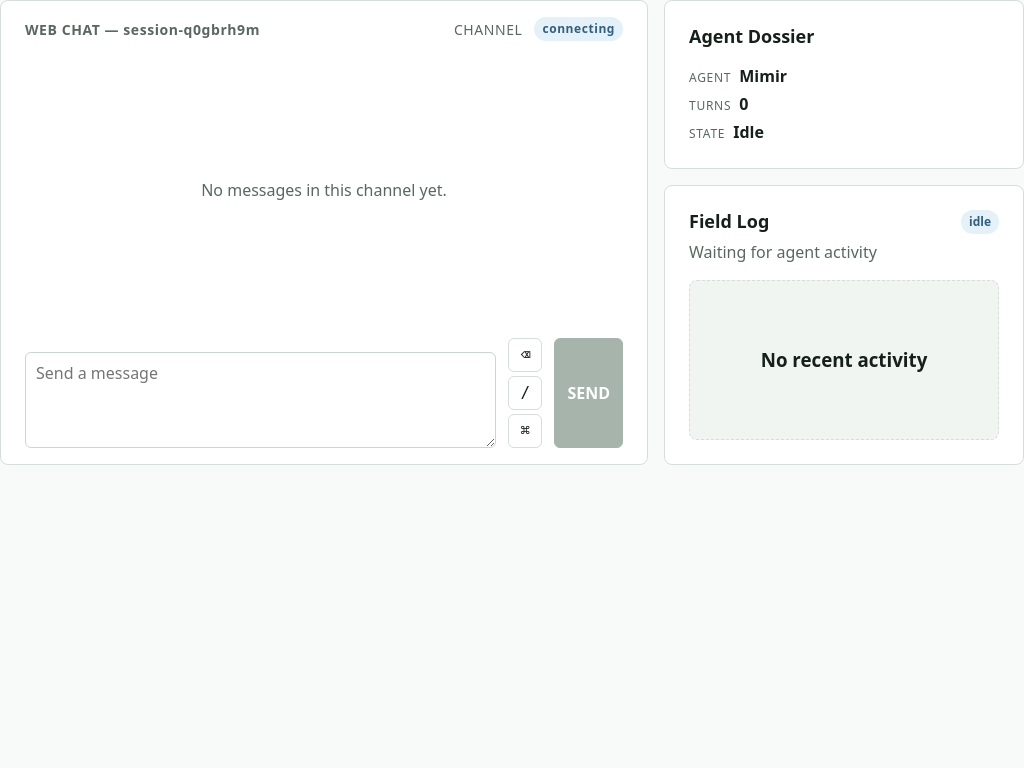
Scenario: ChatRoute › opens the Shortcuts picker with persisted user snippets
This screenshot has width=1024, height=768.
Click the button named "Shortcuts".
click(525, 431)  # box 508,414 -> 542,448
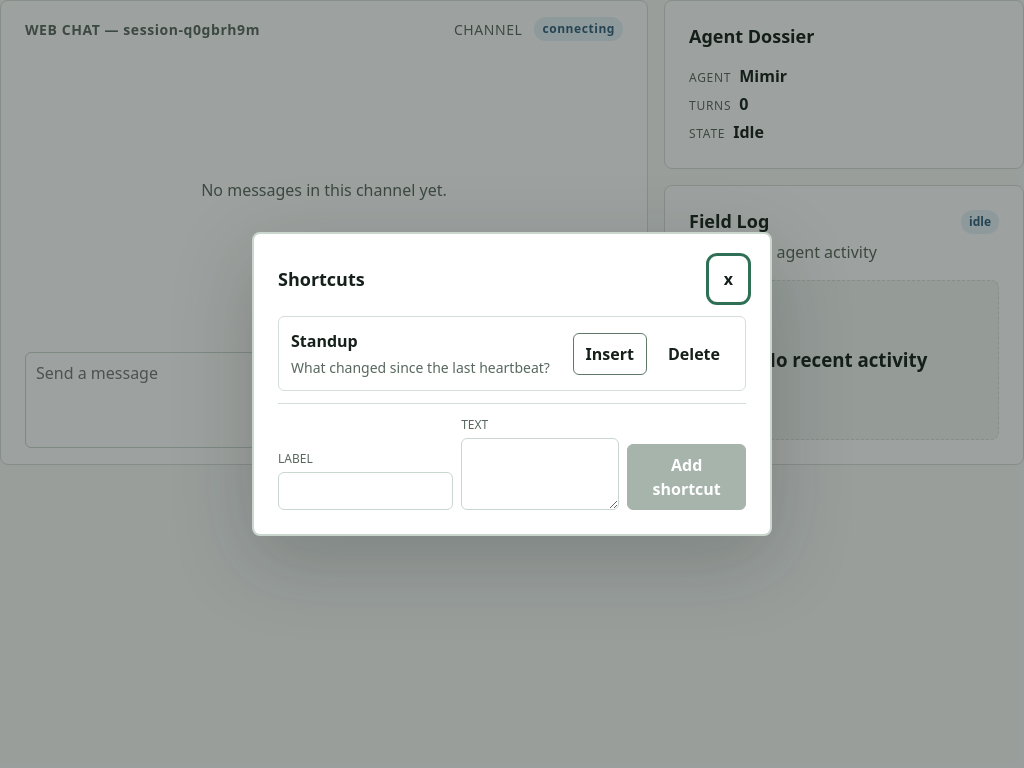
Click the button "Insert".
click(610, 354)  # box 573,332 -> 647,374
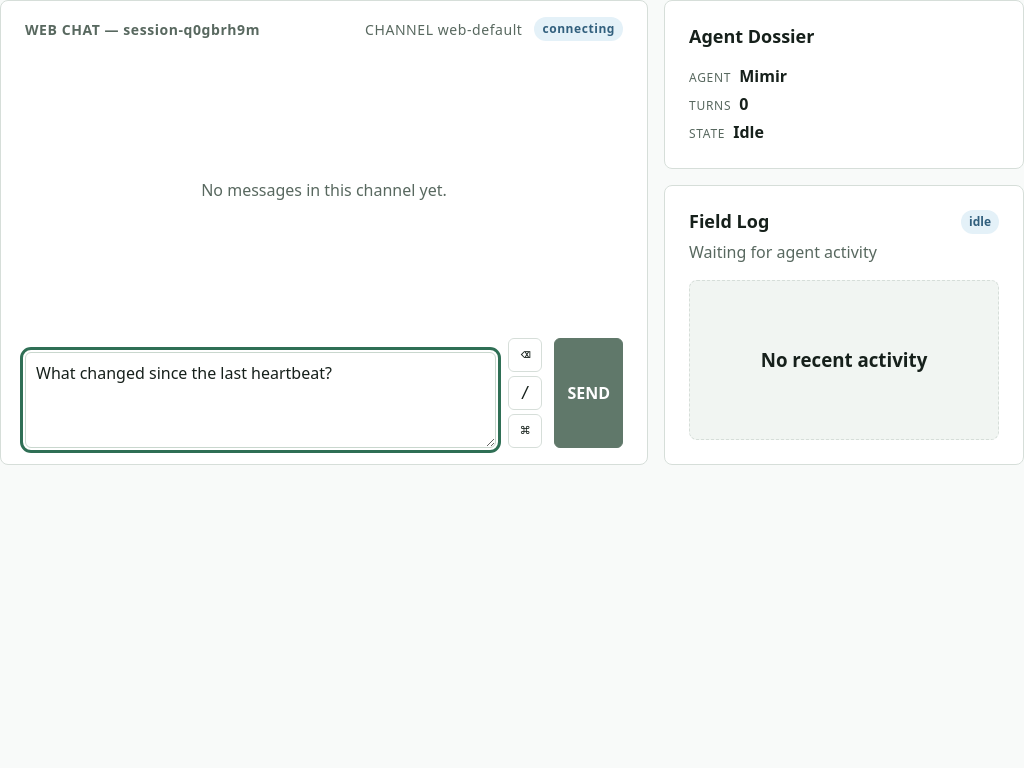
Result: the text box named "message" holds "What changed since the last heartbeat?" at 25,352 -> 496,448
